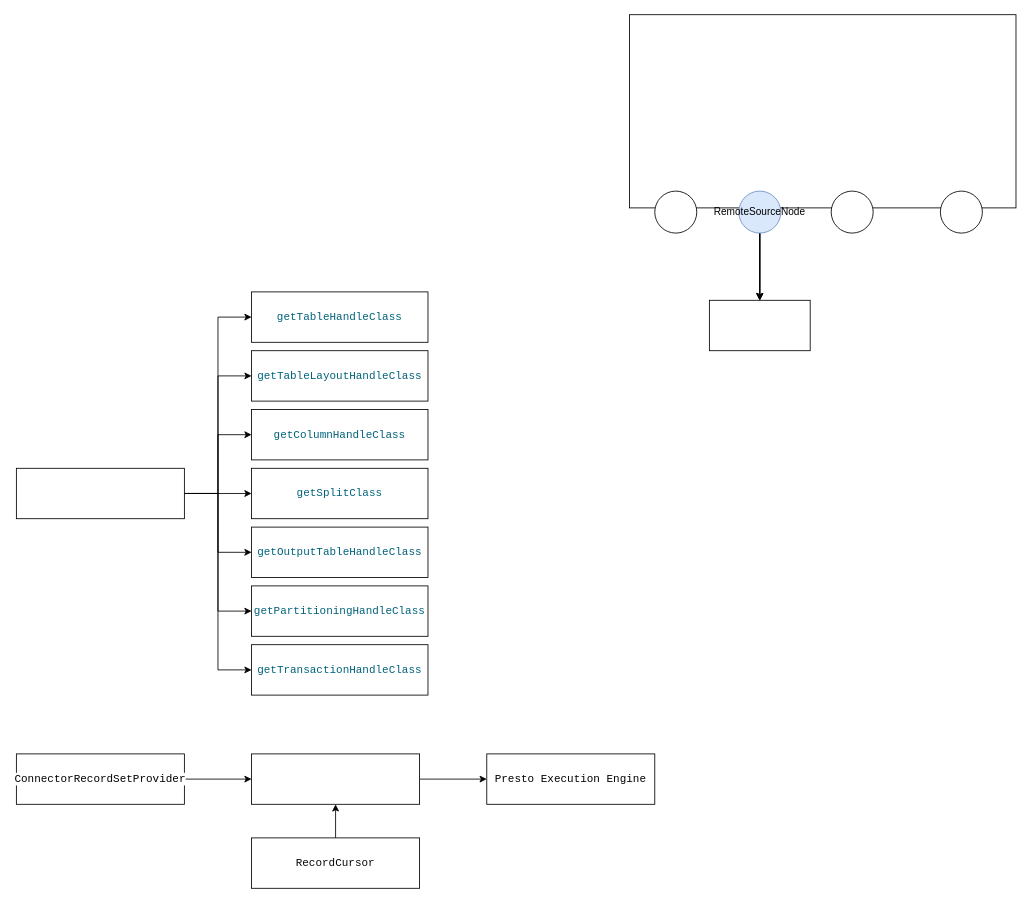
Image size: 1031x903. Some labels were removed from this diagram. The centre of each missing label's shape, as x and y in pixels:
"ConnectorHandleResolver" belongs at point (100, 493).
"PlanFragment1" belongs at point (822, 111).
"PlanFragment2" belongs at point (759, 325).
"RecordSet" belongs at point (335, 778).
